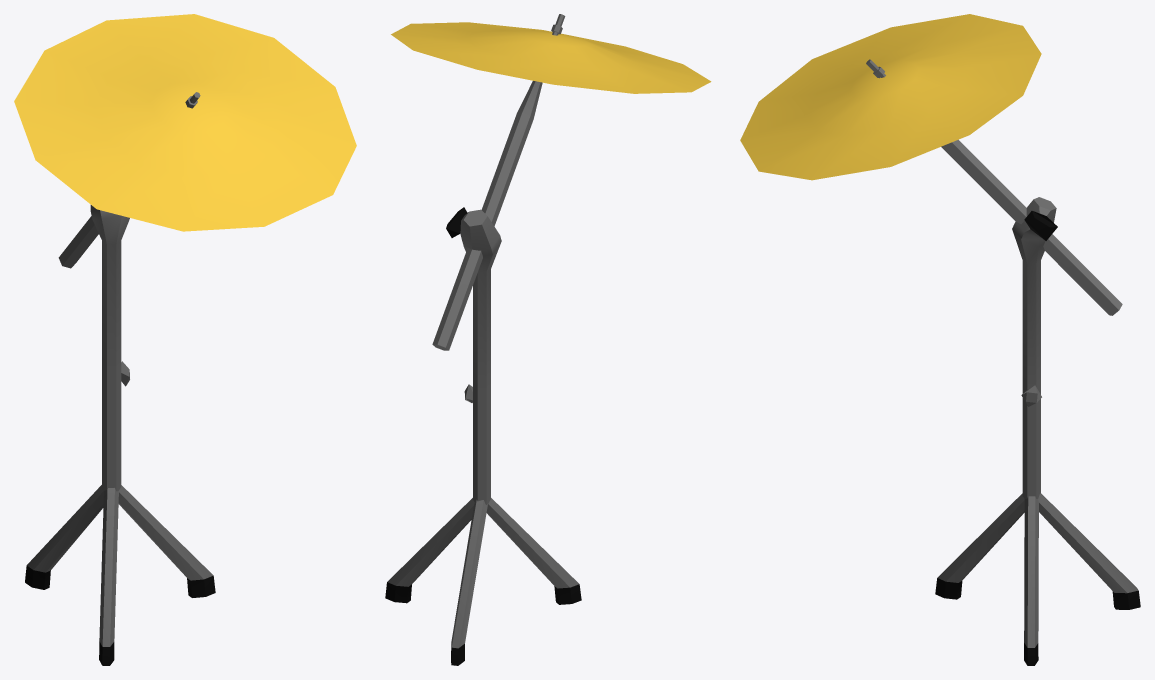
The model's file is CrashCymbal.fbx.
The picture shows the model from 3 angles, left to right: view 1: azimuth 30°, elevation 25°; view 2: azimuth 150°, elevation 25°; view 3: azimuth 270°, elevation 25°; orthographic projection. The views are drawn at different scales.
Parts seen in each view (by area): view 1: CrashCymbal; view 2: CrashCymbal; view 3: CrashCymbal.
Part boxes in pixels (x1,y1,x2,y2): CrashCymbal: (14,14,356,665); CrashCymbal: (385,14,711,665); CrashCymbal: (740,14,1140,665).
Size of the model in its own units: 54.82 by 103 by 66.47.
